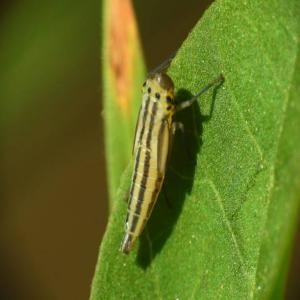locust: (78, 42, 221, 255)
